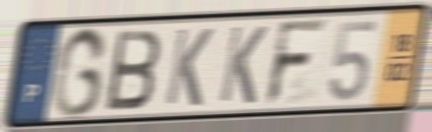5: (327, 16, 379, 103)
B: (103, 27, 164, 114)
F: (262, 16, 331, 109)
G: (49, 24, 111, 121)
K: (162, 26, 216, 110), (216, 24, 270, 107)
